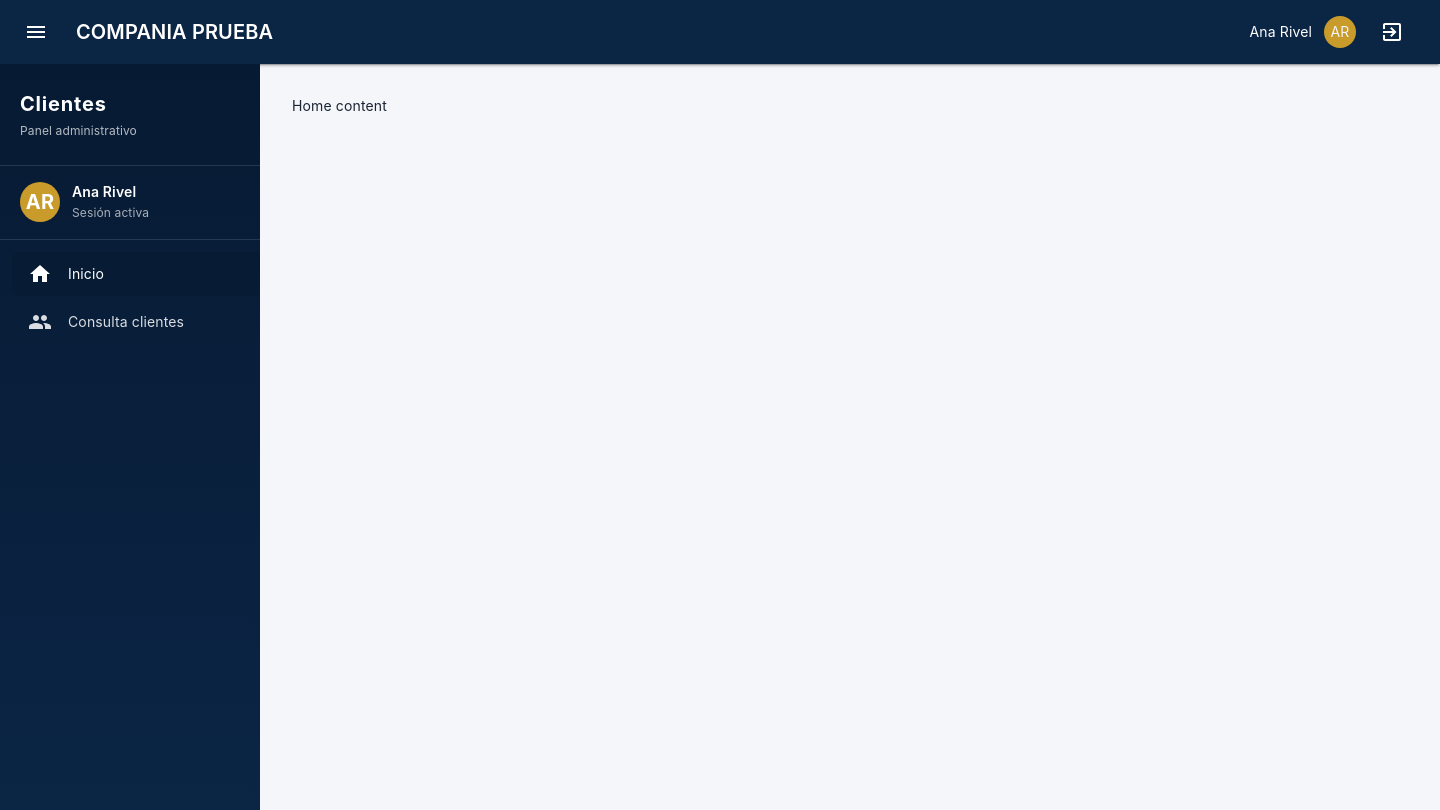
Test: AppShellLayout › navigates to /clients when the "Consulta clientes" menu item is clicked
What coordinates should you click on to do the following:
click the button with test id "nav-clients"
I would click on:
 (106, 322)
Its box is [28, 310, 184, 334].
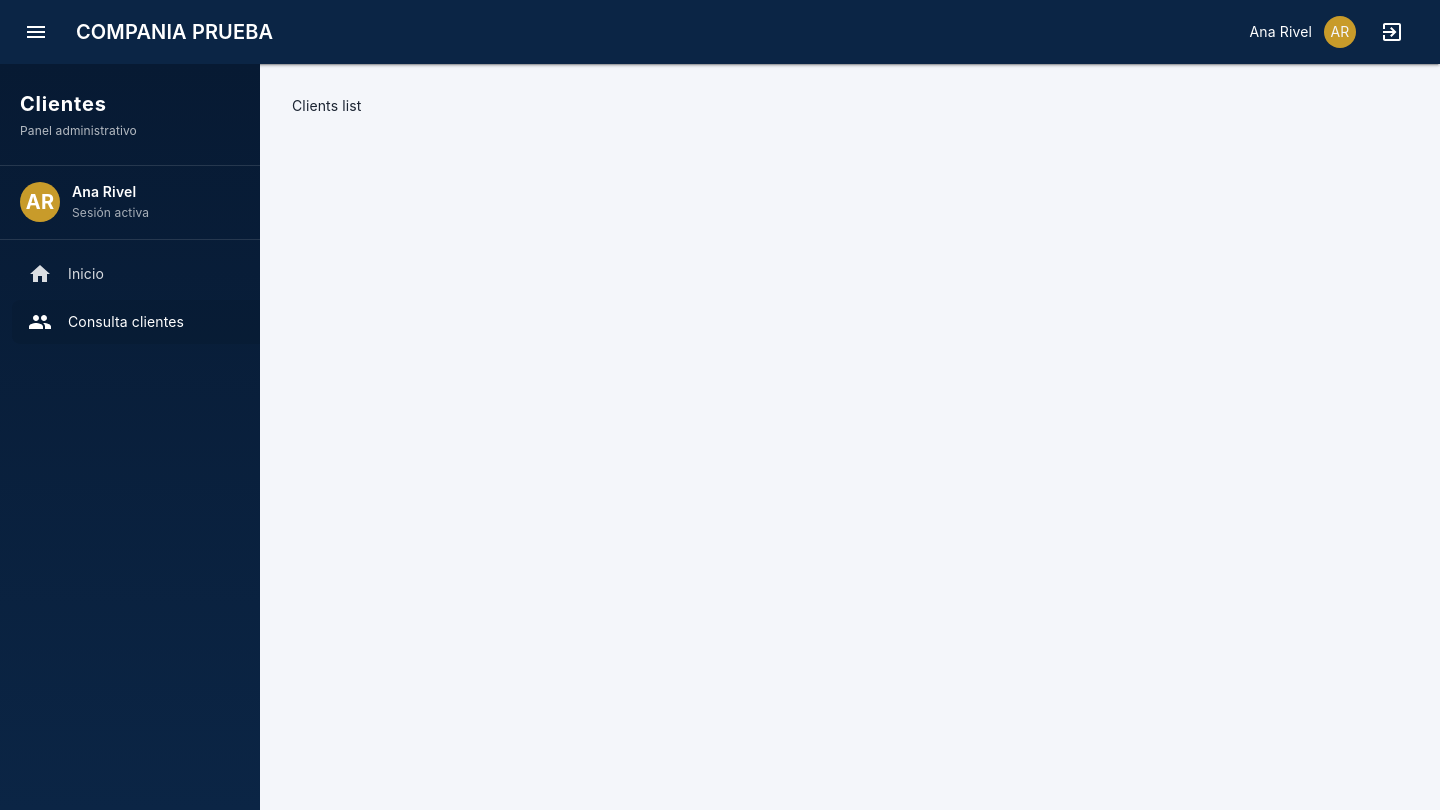
Result: the text "Clients list" is shown at [292, 97, 362, 114]
